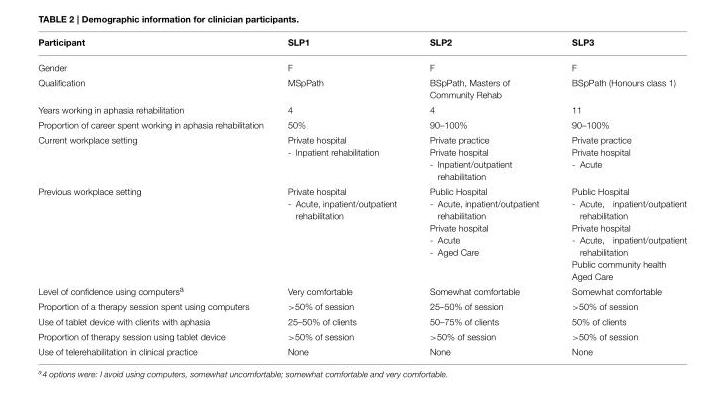table: (37, 37, 686, 356)
table column: (37, 37, 274, 356), (412, 37, 554, 356), (274, 37, 412, 356), (554, 37, 686, 356)
table column header: (37, 37, 686, 54)
table row: (37, 183, 686, 282), (37, 132, 686, 183), (37, 75, 686, 102), (37, 54, 686, 75), (37, 37, 686, 54), (37, 282, 686, 299), (37, 102, 686, 117), (37, 117, 686, 132), (37, 299, 686, 314), (37, 314, 686, 329), (37, 329, 686, 344), (37, 344, 686, 356)
